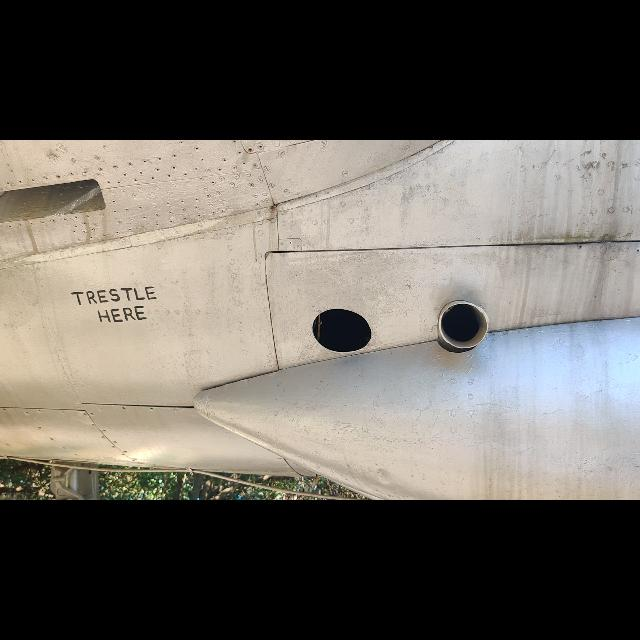dent: (374, 467, 394, 485)
